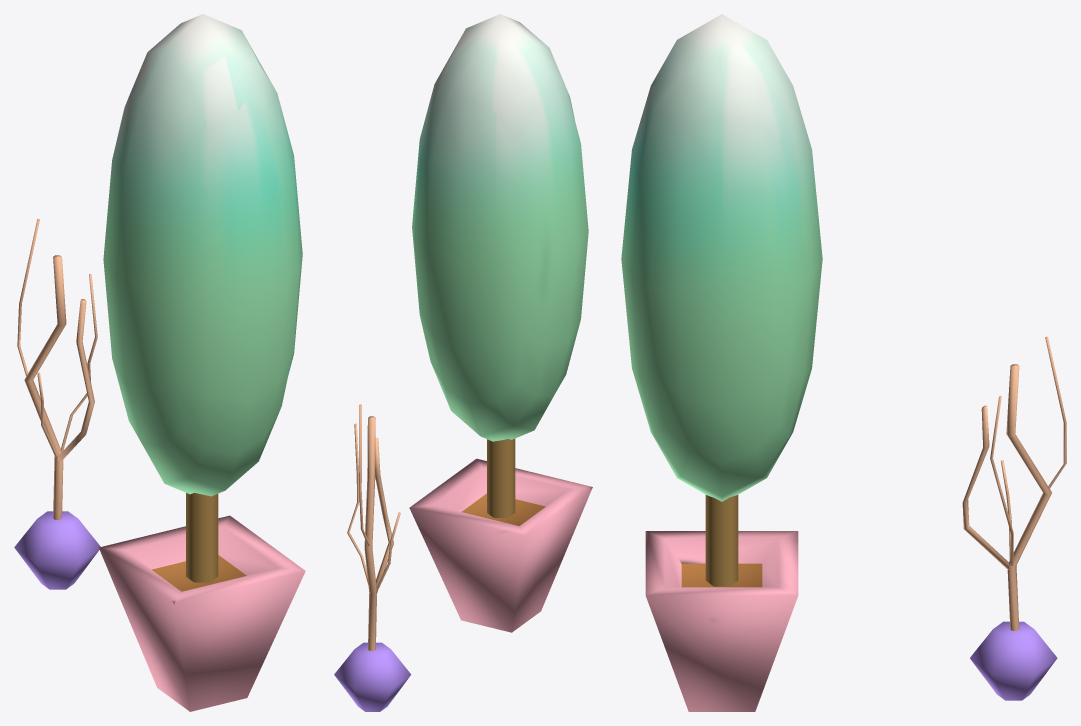
File: Plants_MOD_2.fbx
The picture shows the model from 3 angles, left to right: view 1: azimuth 30°, elevation 25°; view 2: azimuth 150°, elevation 25°; view 3: azimuth 270°, elevation 25°; orthographic projection. The views are drawn at different scales.
Parts seen in each view (by area): view 1: Plant1, Cylinder; view 2: Plant1, Cylinder; view 3: Plant1, Cylinder.
Part boxes in pixels (<box>): Plant1: <box>99,14,305,711</box>; Cylinder: <box>14,219,100,589</box>; Plant1: <box>409,14,592,632</box>; Cylinder: <box>334,404,411,711</box>; Plant1: <box>621,14,822,711</box>; Cylinder: <box>962,337,1066,700</box>.
Size of the model in its own units: 40 by 150 by 88.46.
